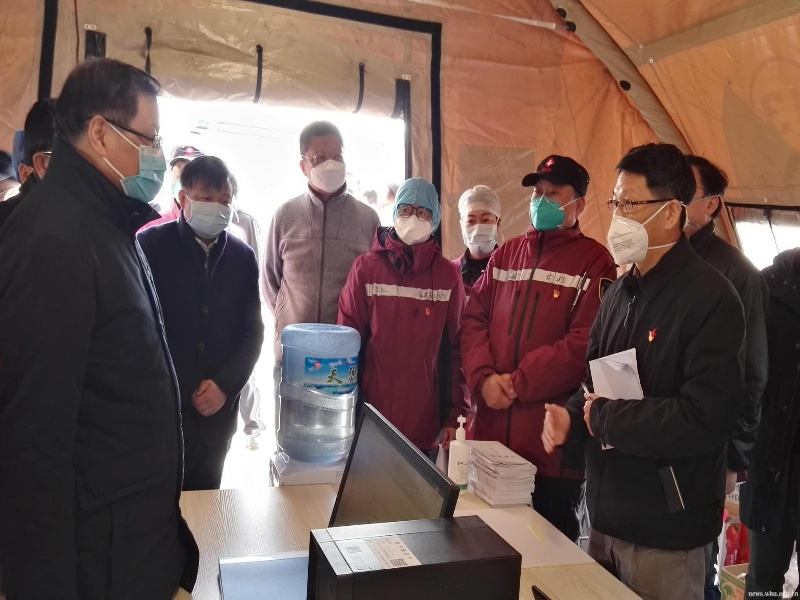ManaoArotava: (91, 65, 189, 219), (601, 141, 682, 293), (524, 145, 590, 256), (173, 158, 245, 258), (384, 168, 449, 269), (294, 112, 355, 205), (444, 182, 509, 268)
